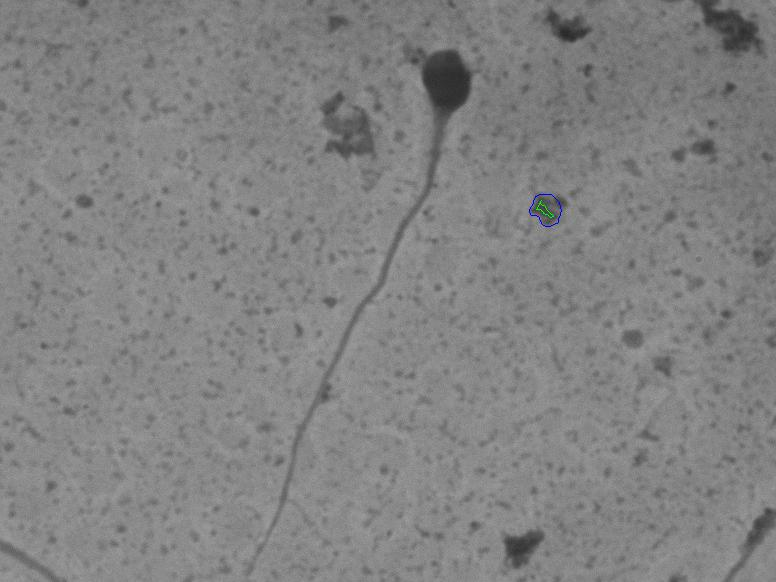Abnormal: (230, 28, 483, 556)
